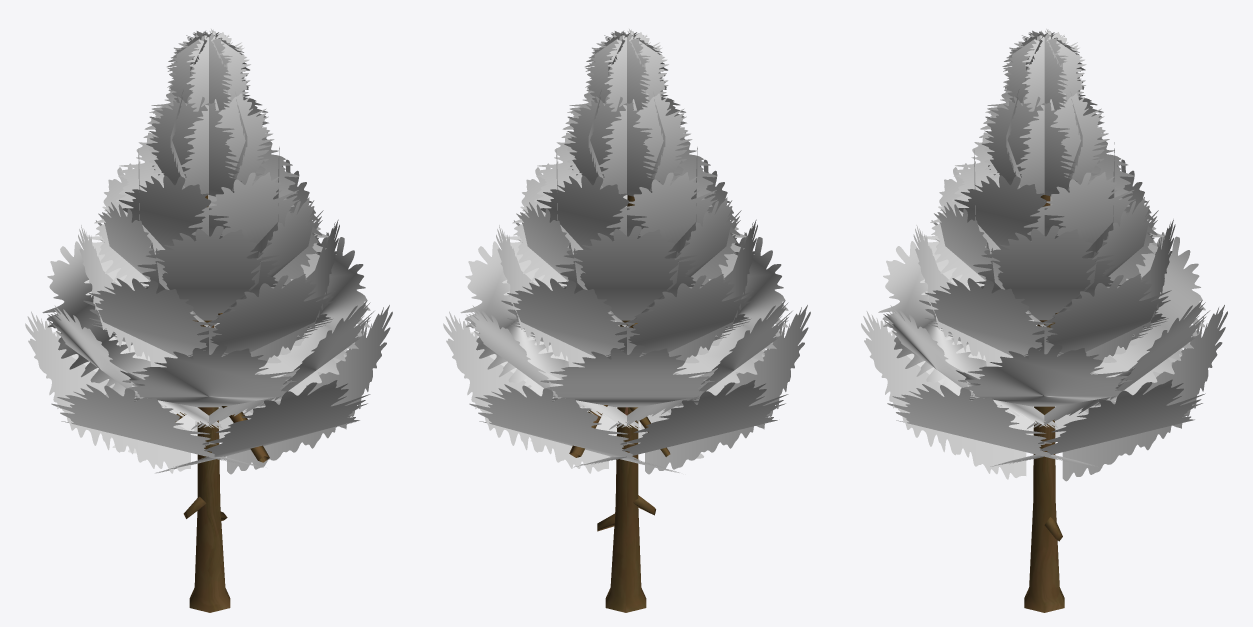
File: Tarmarack_Tree_001.fbx
3 views of the same model, side by side, from view 1: azimuth 30°, elevation 25°; view 2: azimuth 150°, elevation 25°; view 3: azimuth 270°, elevation 25° (orthographic).
Visible parts, largest first — view 1: Tamarack_Leaf_001_LOD0, Tamarack_Trunk_LOD0; view 2: Tamarack_Leaf_001_LOD0, Tamarack_Trunk_LOD0; view 3: Tamarack_Leaf_001_LOD0, Tamarack_Trunk_LOD0.
Part boxes in pixels (x1,y1,x2,y2): Tamarack_Leaf_001_LOD0: [25, 29, 392, 474]; Tamarack_Trunk_LOD0: [175, 195, 269, 612]; Tamarack_Leaf_001_LOD0: [443, 29, 810, 474]; Tamarack_Trunk_LOD0: [569, 195, 670, 612]; Tamarack_Leaf_001_LOD0: [861, 28, 1227, 481]; Tamarack_Trunk_LOD0: [1024, 195, 1064, 612].
Size of what is drawn, in the model's own units: 456 by 660 by 407.
